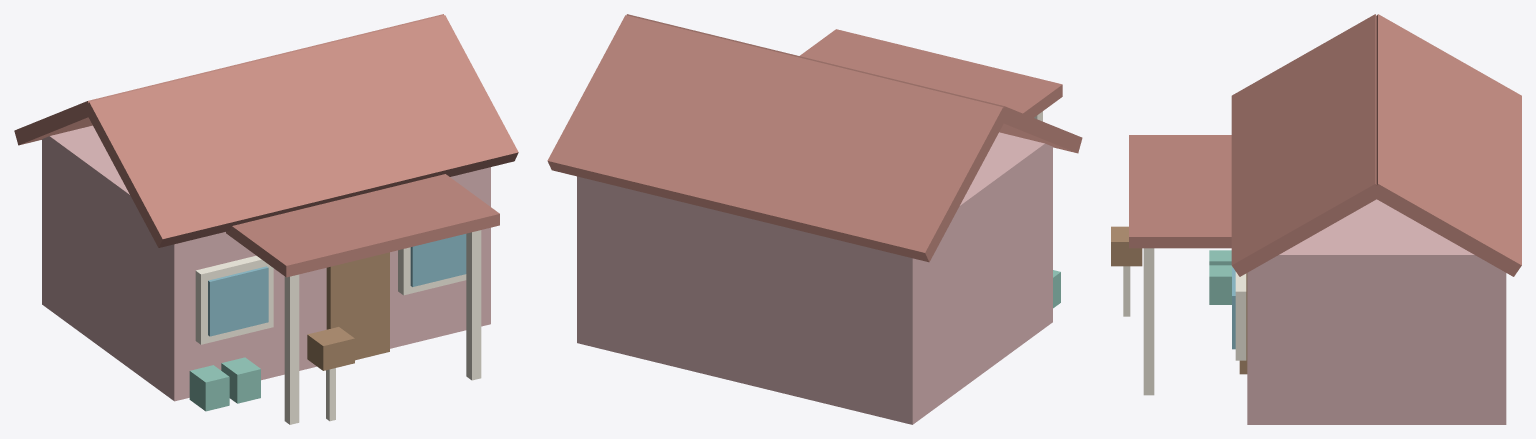
Rendered from home-04.glb.
The picture shows the model from 3 angles, left to right: view 1: azimuth 30°, elevation 25°; view 2: azimuth 150°, elevation 25°; view 3: azimuth 270°, elevation 25°; orthographic projection. The views are drawn at different scales.
Visible parts, largest first — view 1: pitched roof.001, individual walls.003, letterbox post.003, front door.004, window pane.002, flower planter.003; view 2: individual walls.003, pitched roof.001; view 3: pitched roof.001, individual walls.003, letterbox post.003, front door.004, flower planter.003.
Part boxes in pixels (x1,y1,x2,y2): pitched roof.001: (14,14,518,277); individual walls.003: (42,125,490,401); letterbox post.003: (195,230,481,424); front door.004: (307,252,389,370); window pane.002: (208,234,466,336); flower planter.003: (189,357,260,411); individual walls.003: (577,132,1052,424); pitched roof.001: (547,14,1082,262); pitched roof.001: (1129,14,1521,276); individual walls.003: (1247,199,1506,424); letterbox post.003: (1123,248,1246,395); front door.004: (1111,226,1247,374); flower planter.003: (1209,250,1232,304).
Bounding box in the file's own units: 4.5 × 3.1 × 4.6.
